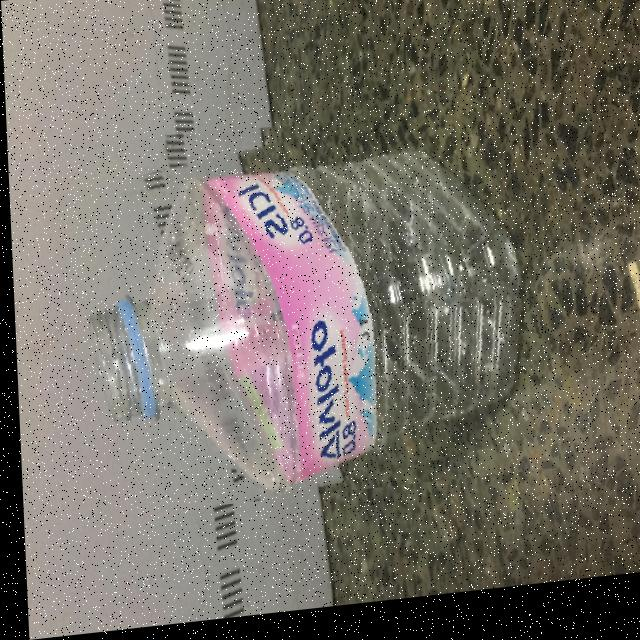litter: (53, 100, 554, 522)
